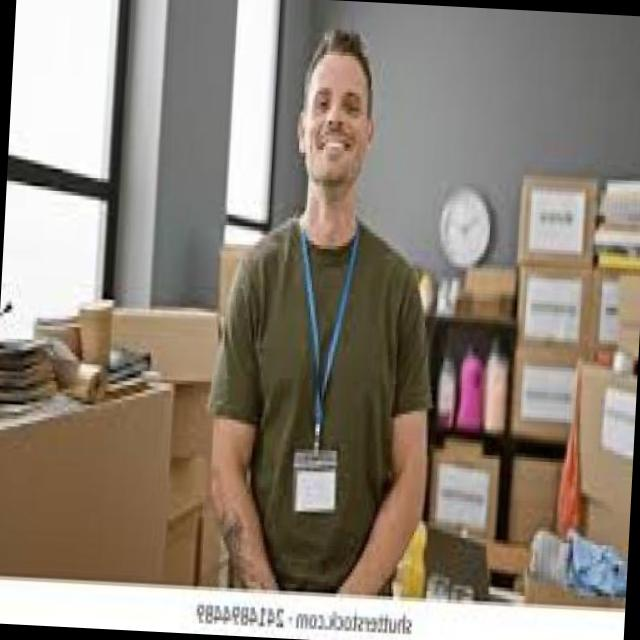id_card: (280, 206, 366, 524)
